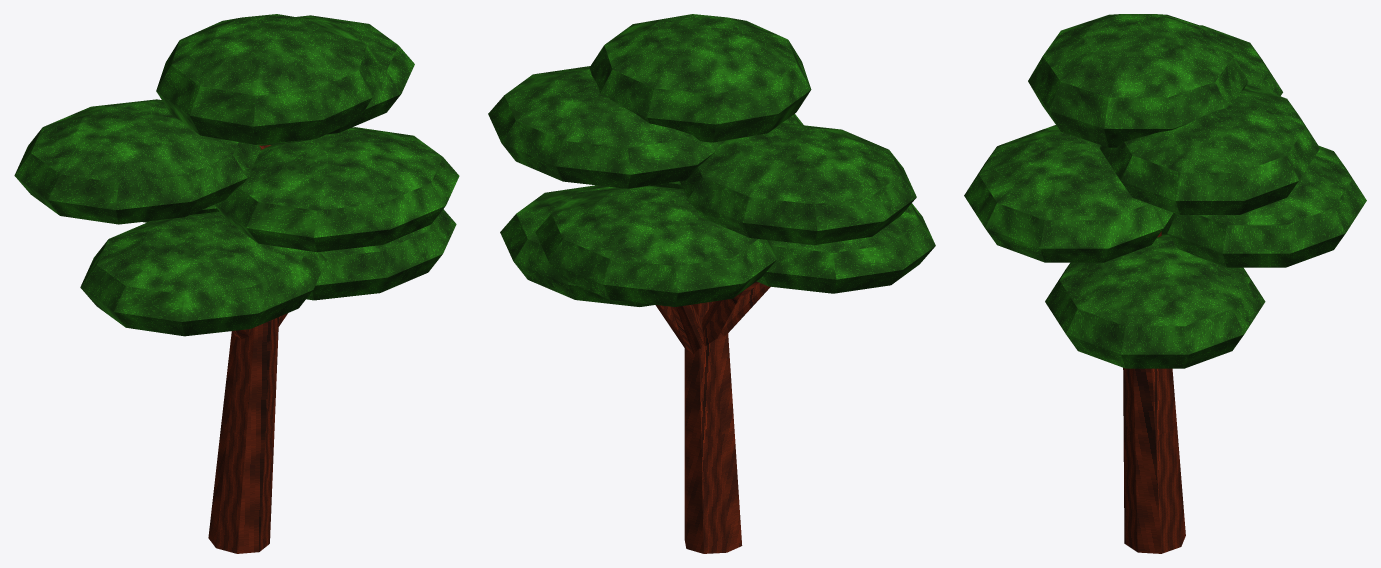
Rendered from green_tree.glb.
The picture shows the model from 3 angles, left to right: view 1: azimuth 30°, elevation 25°; view 2: azimuth 150°, elevation 25°; view 3: azimuth 270°, elevation 25°; orthographic projection. The views are drawn at different scales.
Visible parts, largest first — view 1: Canopy, Body; view 2: Canopy, Body; view 3: Canopy, Body.
Part boxes in pixels (x1,y1,x2,y2): Canopy: (14, 14, 459, 336); Body: (208, 145, 287, 553); Canopy: (488, 14, 935, 306); Body: (655, 281, 770, 553); Canopy: (964, 14, 1366, 368); Body: (1123, 231, 1185, 553).
Size of the model in its own units: 5.53 by 6.78 by 4.75.
2 materials, 2 textured.
